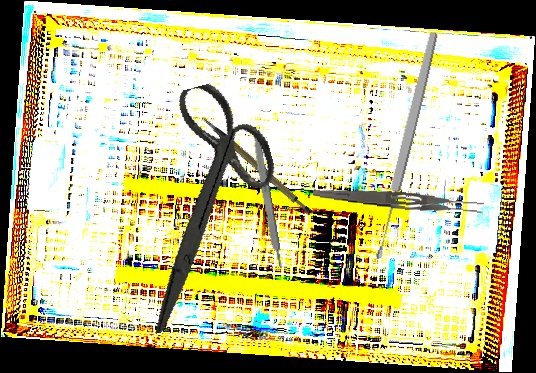Dressing Forceps: (312, 186, 485, 217)
Iris Scissors: (95, 72, 309, 335)
Scalpel Handle: (201, 100, 315, 229), (249, 126, 284, 270)
Surgical Spoon: (371, 30, 441, 261)
